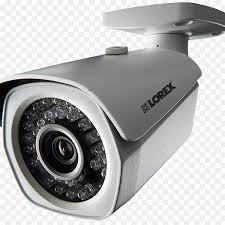tutu: (0, 46, 203, 219)
